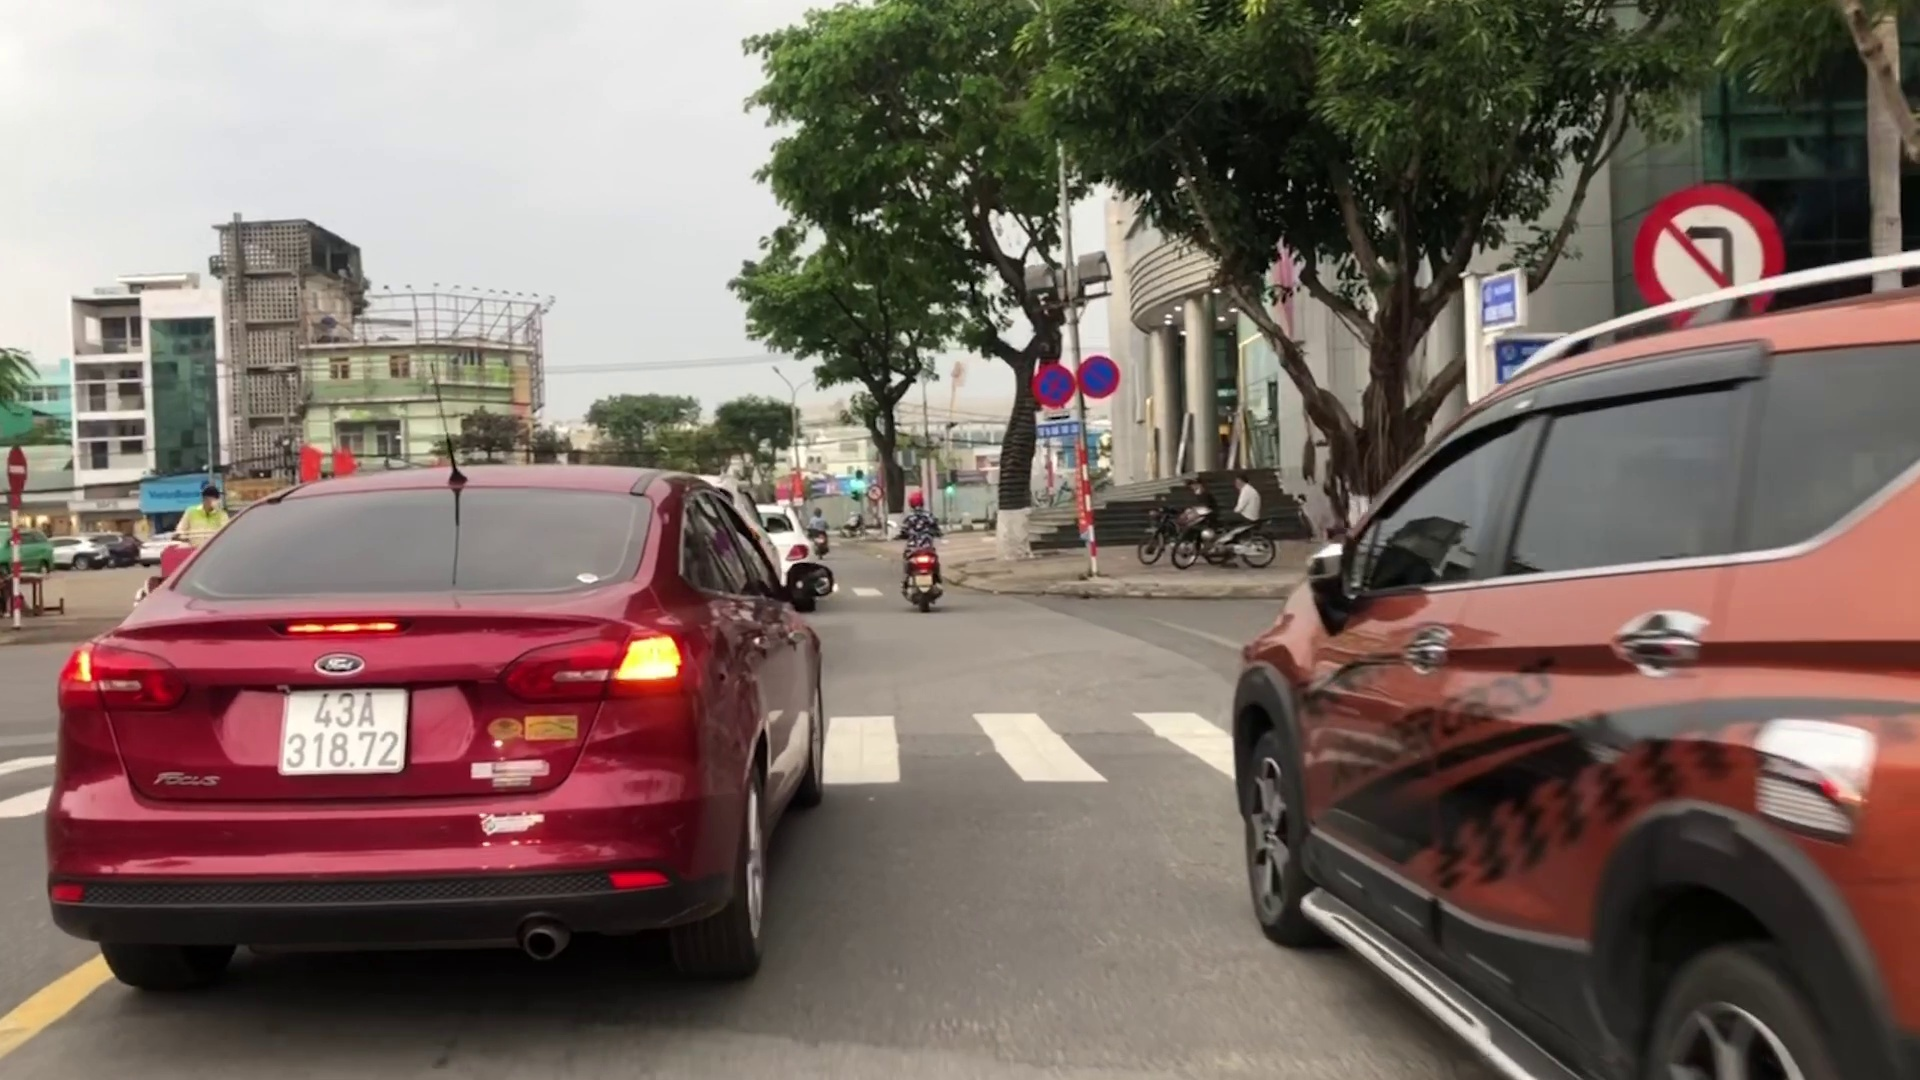Bien khac: (1635, 181, 1782, 307), (1035, 363, 1072, 407)
Cam do xe: (1083, 352, 1118, 397)
